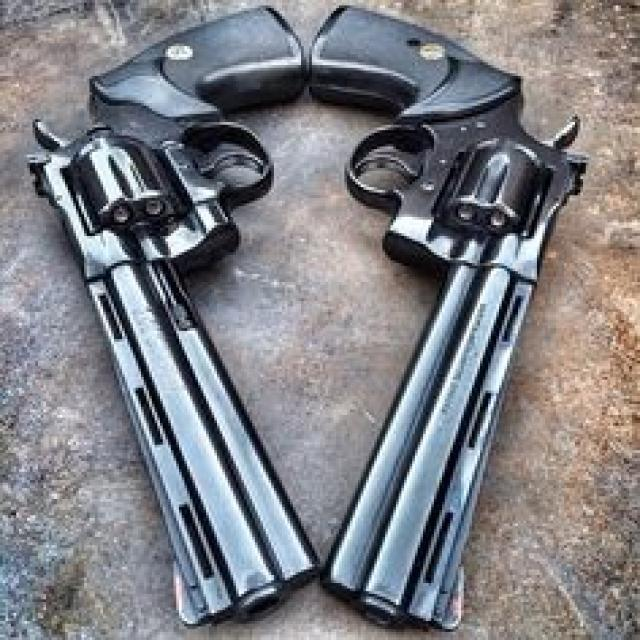revolver: (17, 6, 326, 634)
